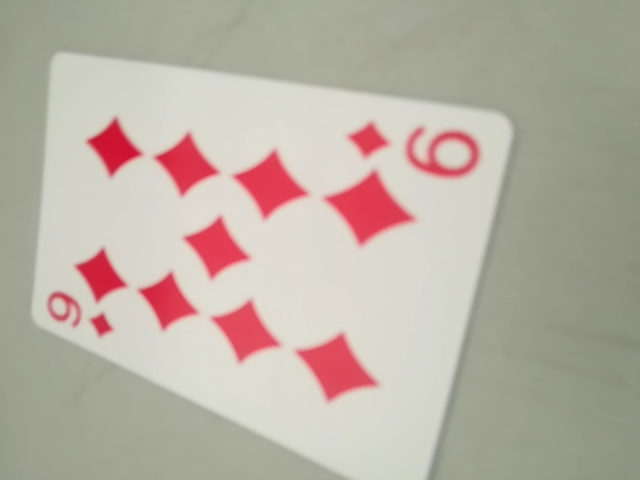fk 9: (339, 112, 493, 181), (35, 288, 124, 344)
